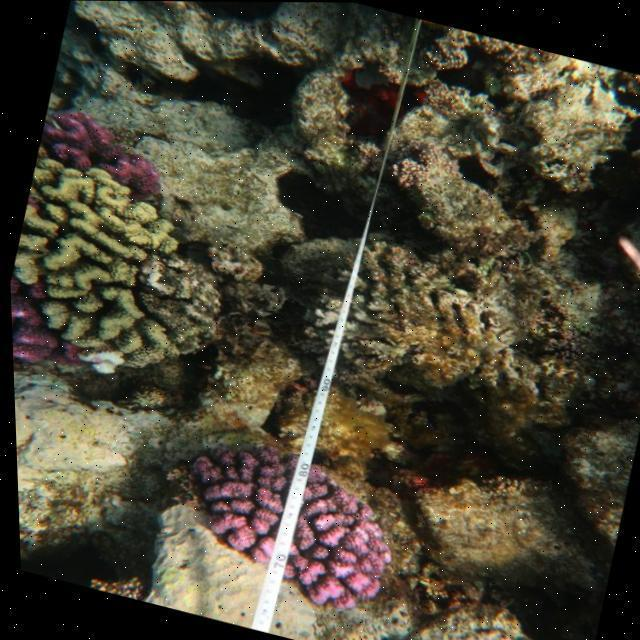Healthy Coral: (182, 414, 430, 608), (51, 102, 162, 188), (0, 305, 71, 373)
